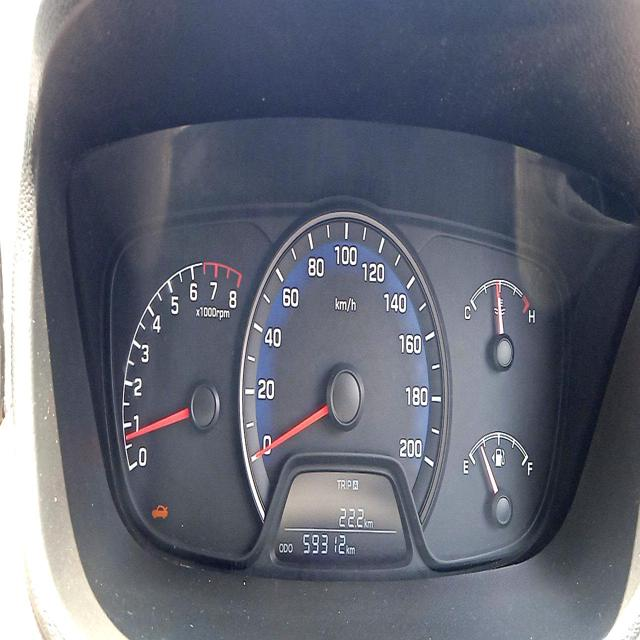odometer: (301, 530, 347, 557)
